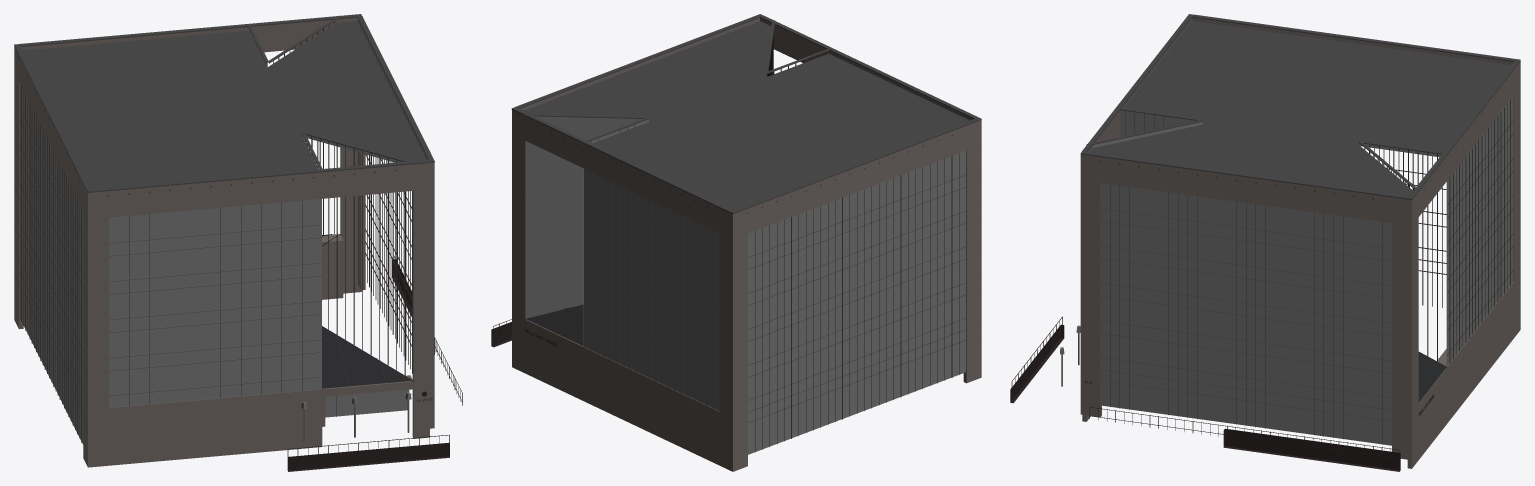
The picture shows the model from 3 angles, left to right: view 1: azimuth 30°, elevation 25°; view 2: azimuth 150°, elevation 25°; view 3: azimuth 270°, elevation 25°; orthographic projection. The views are drawn at different scales.
Parts seen in each view (by area): view 1: opaque, glass; view 2: opaque, glass; view 3: opaque, glass.
Part boxes in pixels (x1,y1,x2,y2): opaque: (14,14,462,471); glass: (19,32,409,444); opaque: (491,14,981,471); glass: (525,116,965,454); opaque: (1010,14,1520,471); glass: (1093,97,1513,445).
Bounding box in the file's own units: 46.48 × 29.5 × 50.53.
2 materials, 1 textured.
